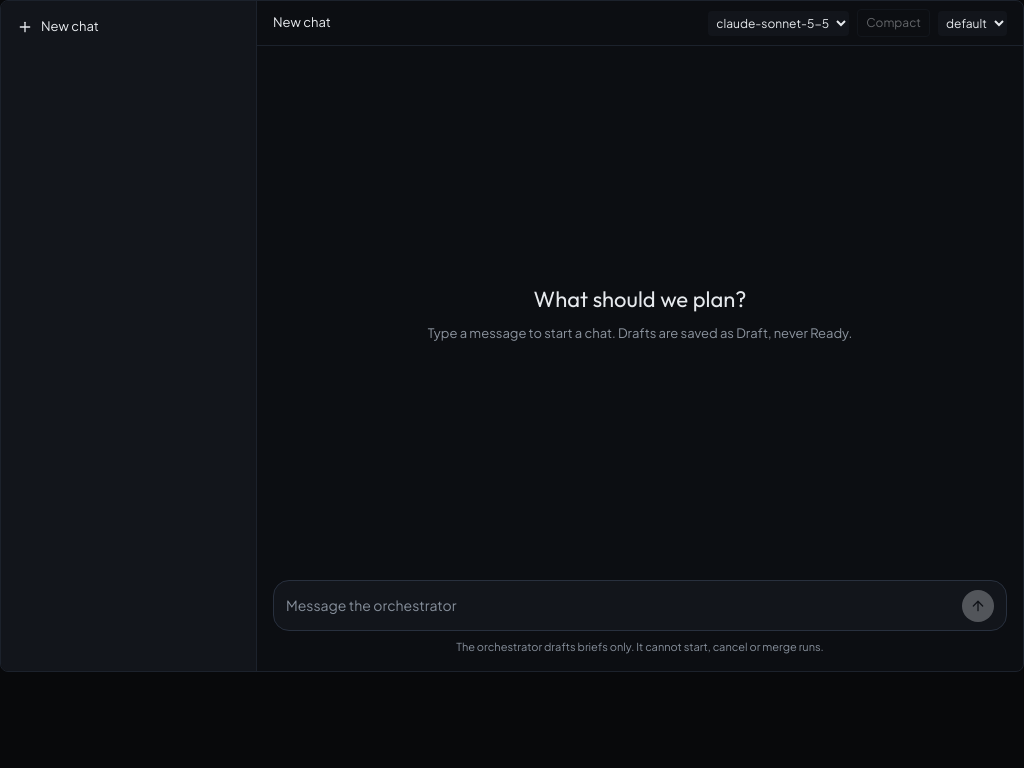
it: Comms chat › shows the API error when a chat cannot be created on the first message
In the text box labelled "Message": (620, 605) [286,588,954,622], type "hello"
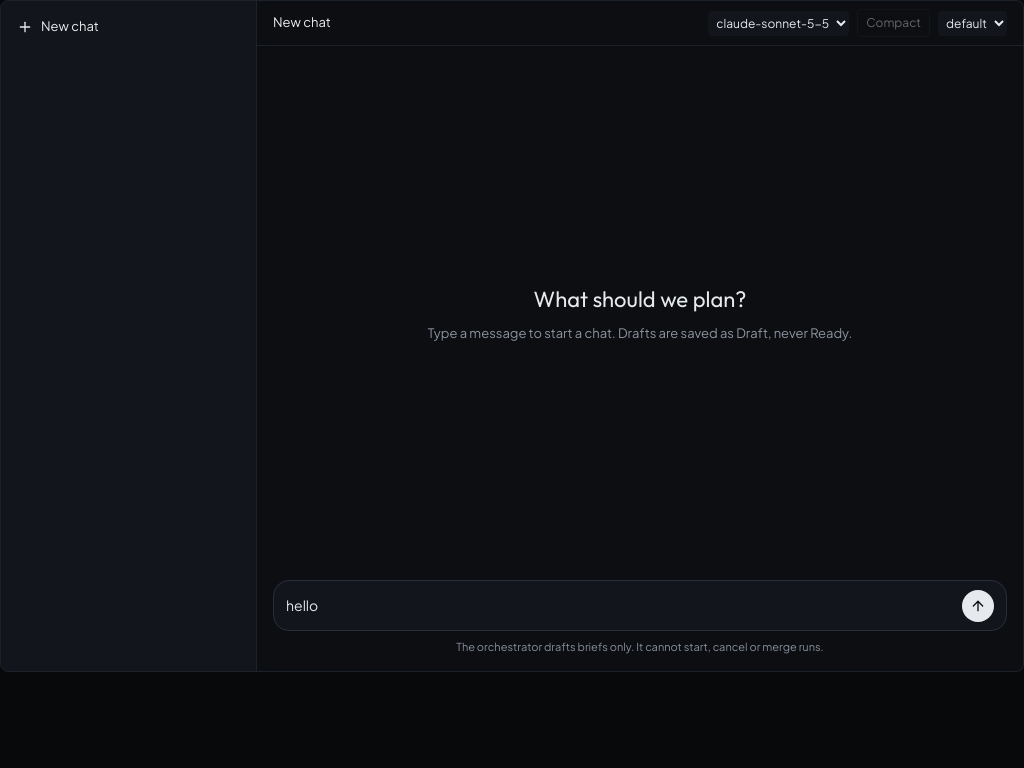
Press Enter in the text box named "Message", box [286,588,954,622]
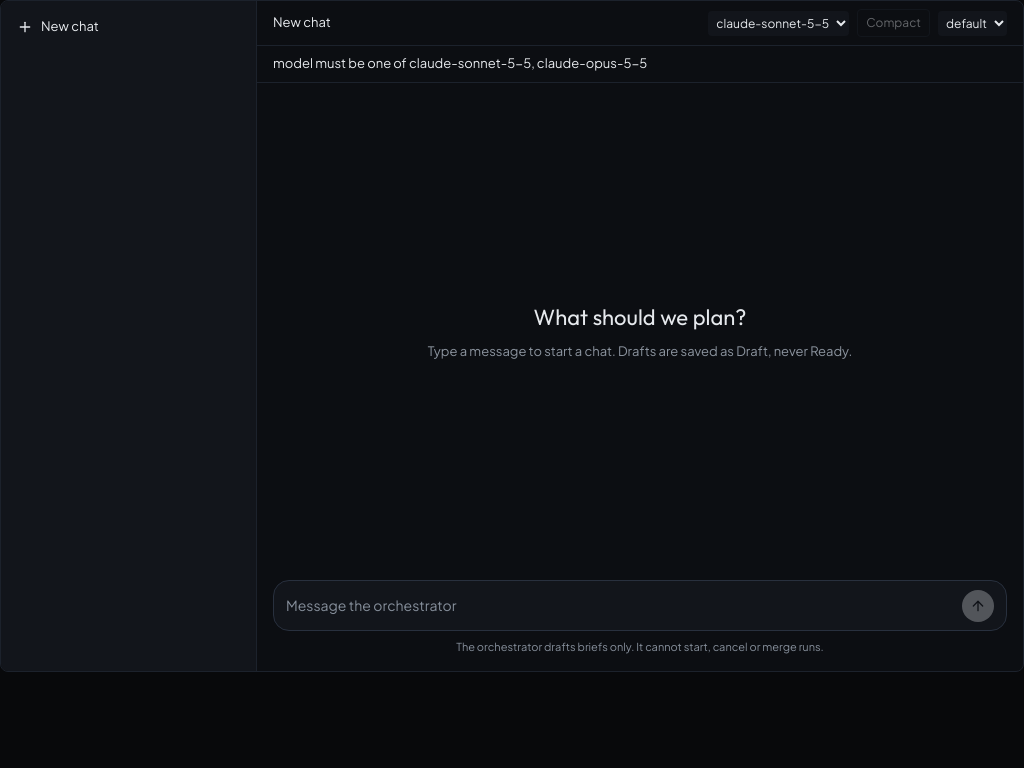
Check: the message reads "model must be one of claude-sonnet-5-5, claude-opus-5-5", box [273,55,647,71]
